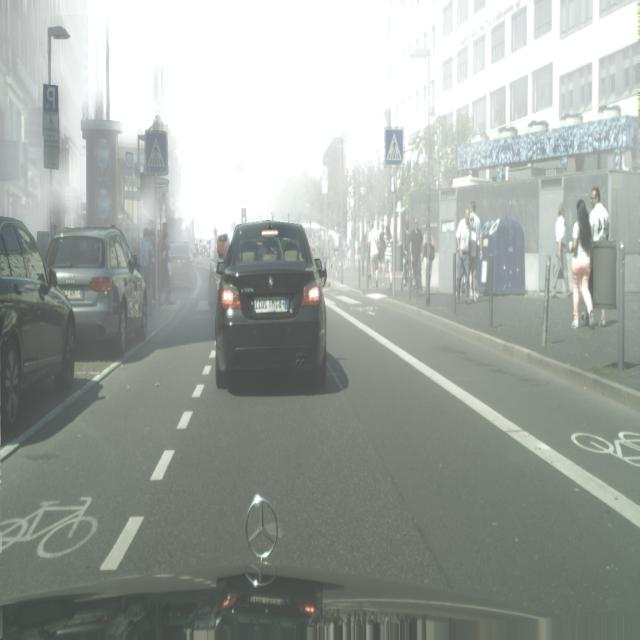person: (569, 201, 594, 328), (552, 203, 571, 297), (456, 205, 472, 304), (468, 199, 482, 302), (158, 225, 175, 306), (422, 220, 436, 306), (589, 187, 610, 241), (140, 228, 154, 308), (409, 216, 423, 292), (368, 222, 379, 288)
truck: (214, 220, 328, 387), (0, 215, 76, 435), (45, 226, 148, 354), (168, 241, 197, 290)
